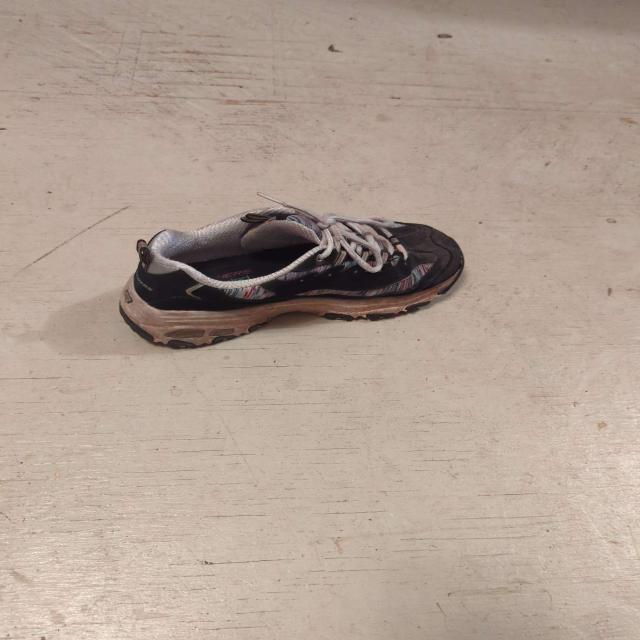shoes: (117, 204, 465, 350)
